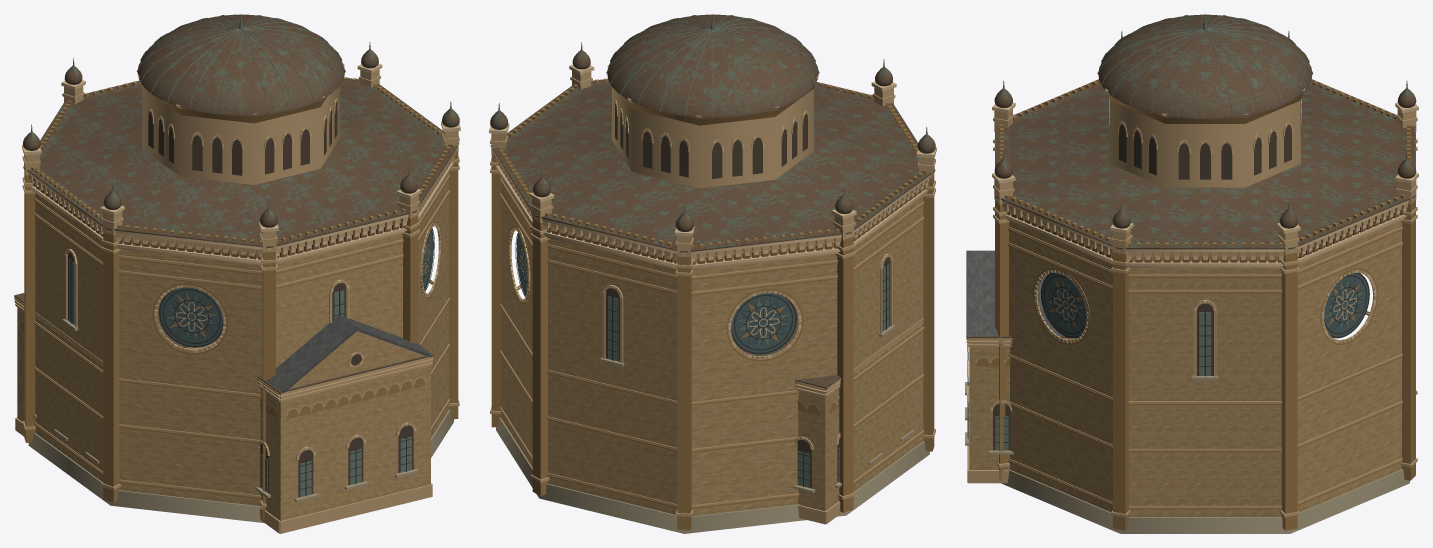
Rendered from syn_aussen.glb.
3 views of the same model, side by side, from view 1: azimuth 30°, elevation 25°; view 2: azimuth 150°, elevation 25°; view 3: azimuth 270°, elevation 25° (orthographic). The views are drawn at different scales.
Visible parts, largest first — view 1: Synagoge; view 2: Synagoge; view 3: Synagoge.
Part boxes in pixels (x1,y1,x2,y2): Synagoge: (14,14,460,533); Synagoge: (489,14,936,533); Synagoge: (965,14,1418,533).
Size of the model in its own units: 20.25 by 22.52 by 21.52.
15 materials, 3 textured.
